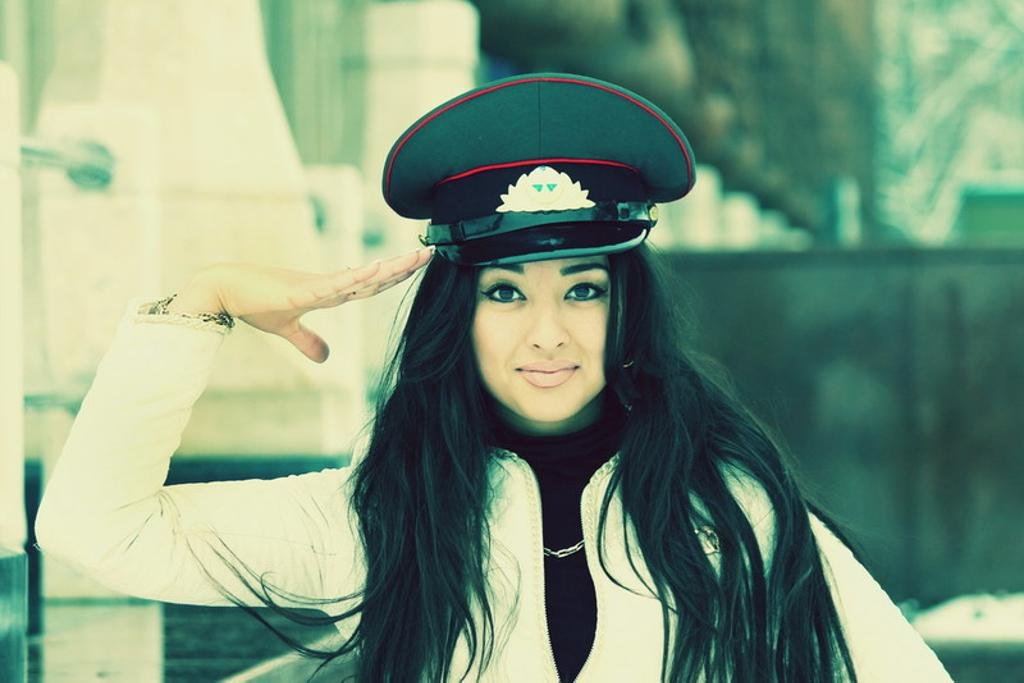face: (470, 212, 618, 426)
